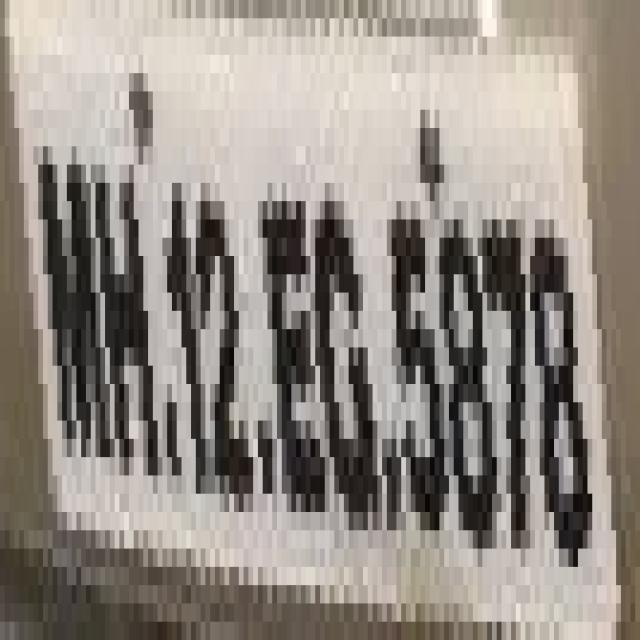license_plate: (14, 18, 602, 585)
